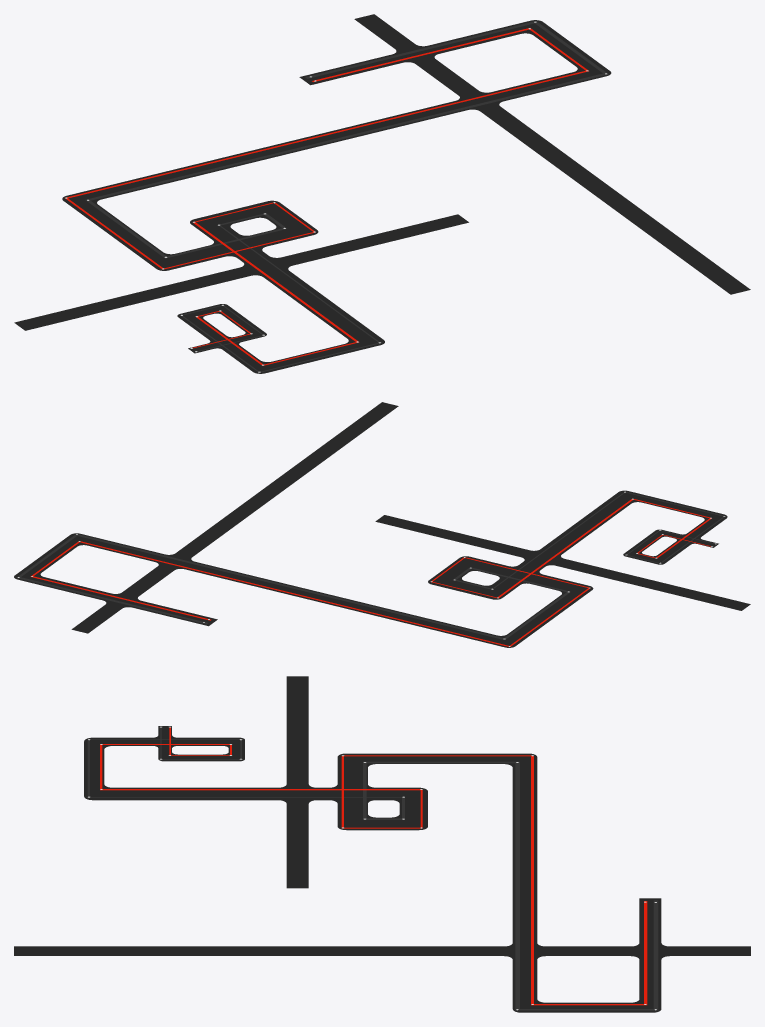
File: road2.fbx
3 renders of one model, top to bottom at view 1: azimuth 30°, elevation 25°; view 2: azimuth 150°, elevation 25°; view 3: azimuth 270°, elevation 25°, orthographic. The views are drawn at different scales.
Visible parts, largest first — view 1: Plane.001, Plane, Plane.002; view 2: Plane.001, Plane, Plane.002; view 3: Plane.001, Plane, Plane.002.
Boxes of the visible parts, x1=… form: Plane.001: x1=14, y1=14, x2=750, y2=373; Plane: x1=85, y1=21, x2=608, y2=372; Plane.002: x1=65, y1=28, x2=588, y2=365; Plane.001: x1=14, y1=402, x2=750, y2=647; Plane: x1=16, y1=492, x2=724, y2=639; Plane.002: x1=30, y1=499, x2=711, y2=646; Plane.001: x1=14, y1=676, x2=750, y2=1012; Plane: x1=87, y1=727, x2=658, y2=1010; Plane.002: x1=100, y1=727, x2=647, y2=1005.
Size of the model in its own units: 231023 by 48.66 by 213850.
Materials: 2 (2 with a texture image).
